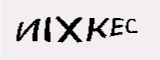Б: (106, 15, 123, 44)
Д: (36, 25, 52, 55)
С: (72, 21, 90, 49)
Ч: (54, 19, 77, 49)
Я: (84, 18, 103, 46)
